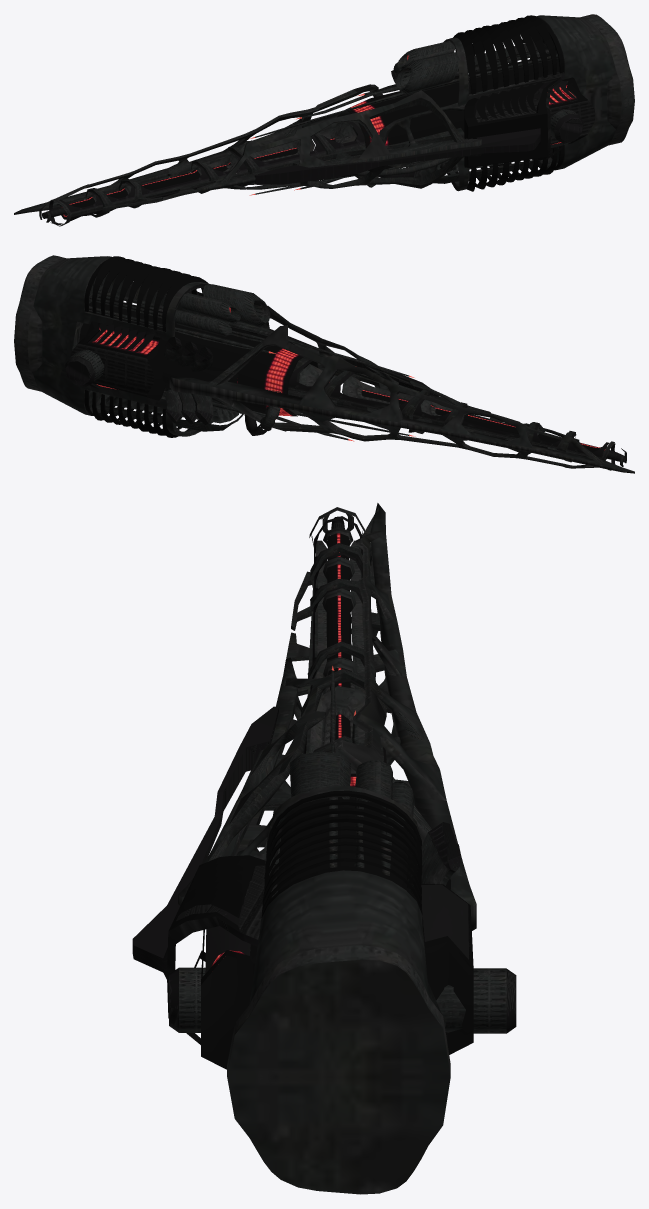
The model's file is wasp-repeater.glb.
3 views of the same model, one above another, from view 1: azimuth 30°, elevation 25°; view 2: azimuth 150°, elevation 25°; view 3: azimuth 270°, elevation 25° (orthographic). The views are drawn at different scales.
Visible parts, largest first — view 1: vncl_I_bas, vncl_I_ven_1; view 2: vncl_I_bas, vncl_I_ven_1; view 3: vncl_I_bas, vncl_I_ven_1.
Boxes of the visible parts, left/top/right/bottom form: vncl_I_bas: left=14, top=14, right=634, bottom=226; vncl_I_ven_1: left=61, top=55, right=580, bottom=217; vncl_I_bas: left=14, top=255, right=634, bottom=473; vncl_I_ven_1: left=79, top=296, right=605, bottom=451; vncl_I_bas: left=132, top=503, right=516, bottom=1194; vncl_I_ven_1: left=201, top=533, right=473, bottom=1069.
Bounding box in the file's own units: 2.49 × 0.6284 × 0.7089.
Materials: 4 (4 with a texture image).
